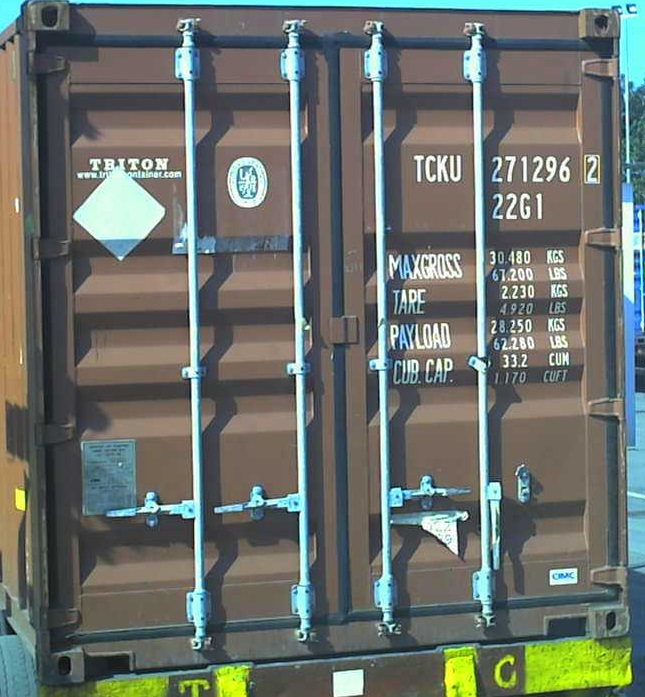container_door: (22, 1, 632, 675)
